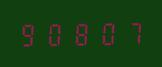eight: (68, 20, 92, 46)
nine: (18, 21, 42, 47)
seven: (118, 19, 142, 45)
zero: (43, 20, 67, 47), (93, 19, 117, 46)
